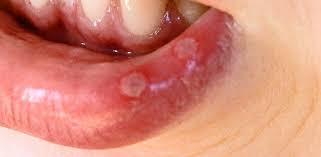Ulcer: (115, 68, 153, 103), (169, 33, 207, 65)
